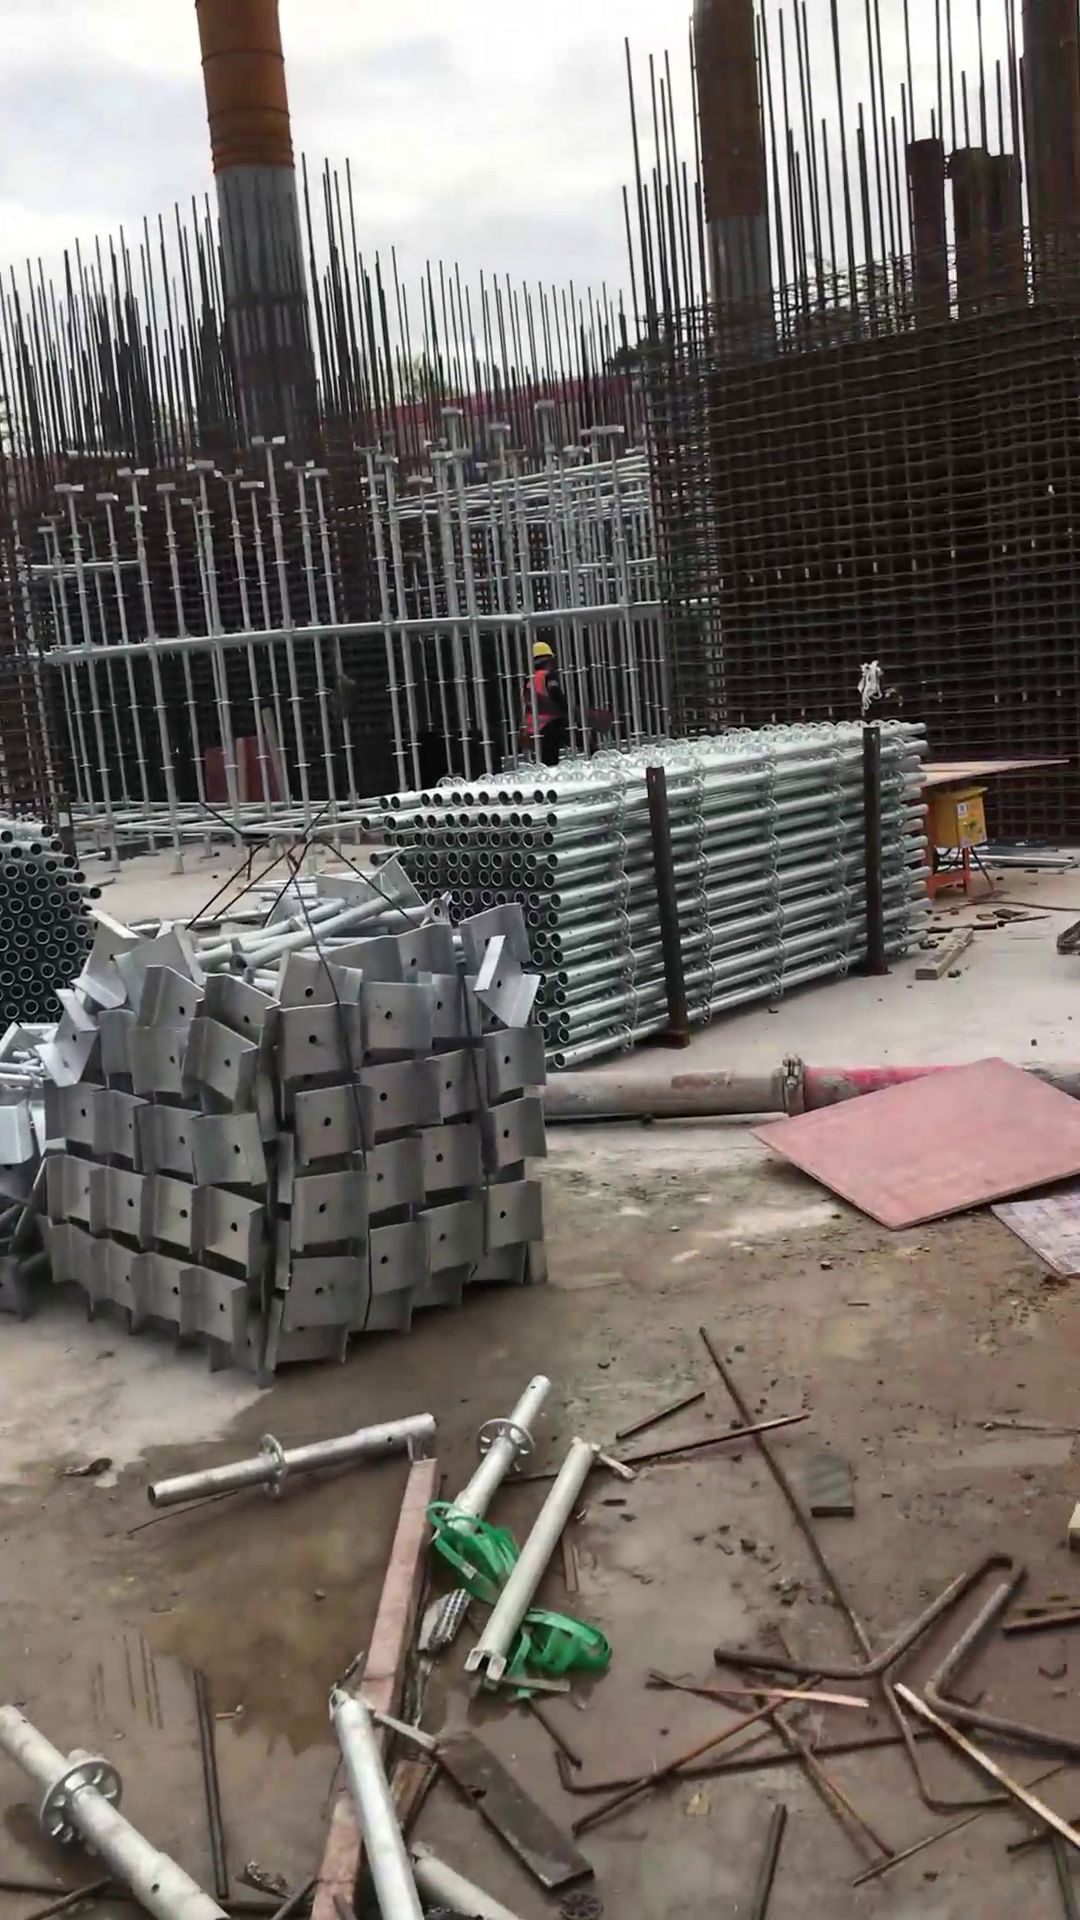cutter: (917, 747, 1064, 904)
helmet: (525, 641, 558, 664)
person: (519, 637, 573, 775)
scaffold: (347, 692, 939, 1076), (1, 808, 123, 1022)
vest: (525, 668, 563, 739)
